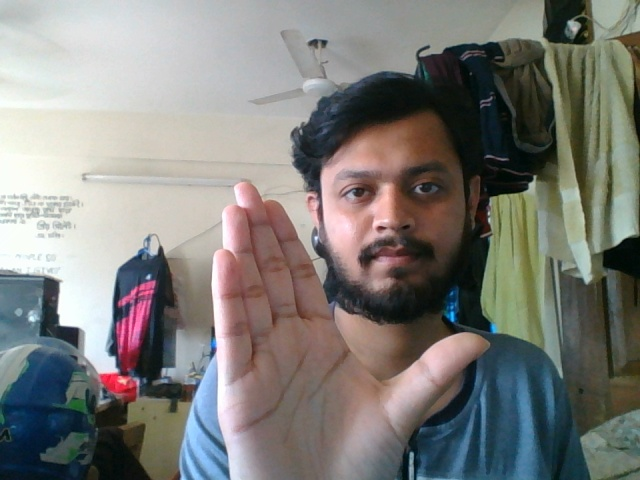a: (200, 170, 493, 480)
